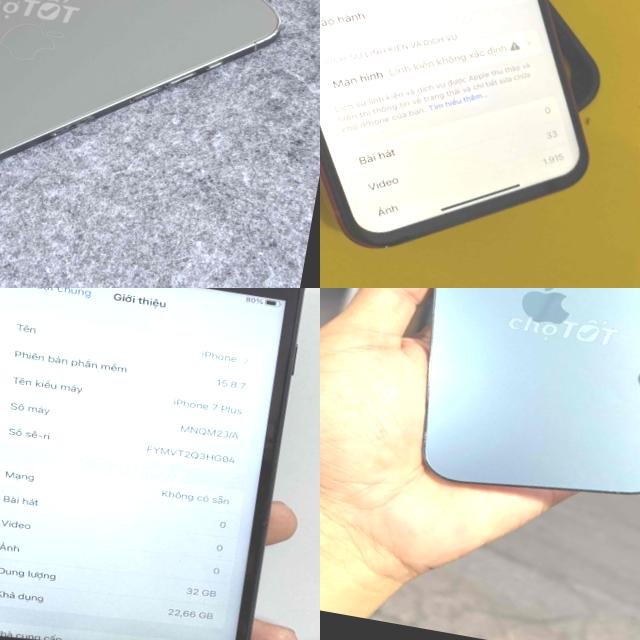scratch: (218, 627, 255, 640)
